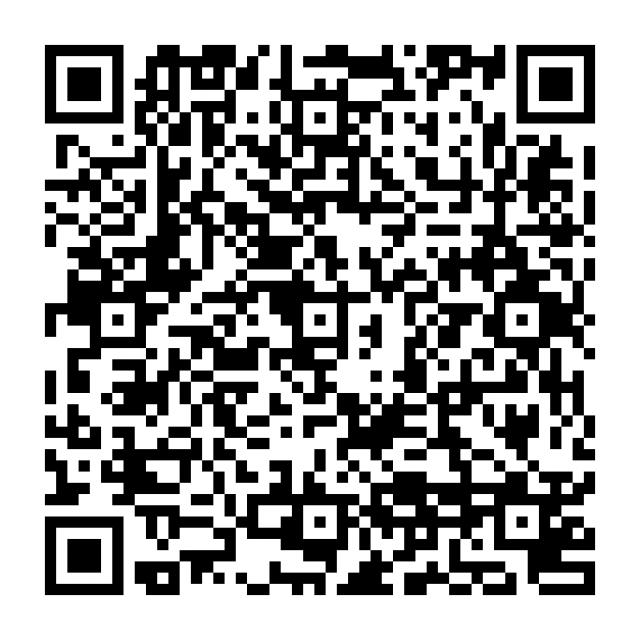QR_CODE: (34, 28, 607, 606)
